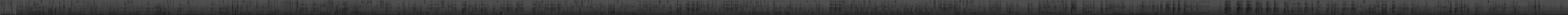Moan: (462, 0, 466, 15), (1224, 0, 1228, 15), (829, 0, 832, 15), (1284, 0, 1286, 15)
